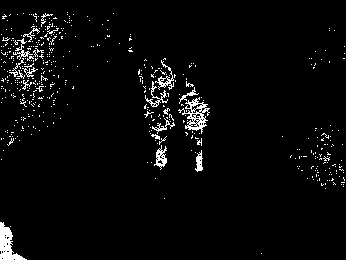person: (140, 85, 176, 171), (179, 79, 211, 174)
